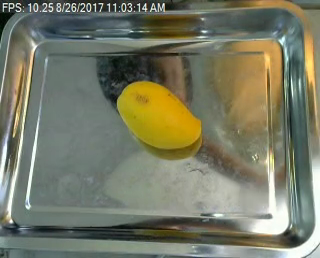Mango: (117, 76, 204, 152)
